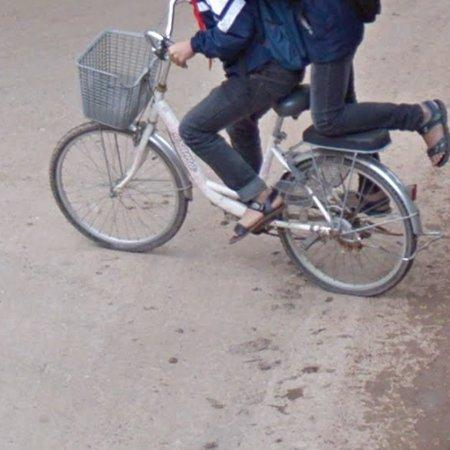bicycles: (50, 0, 245, 252)
